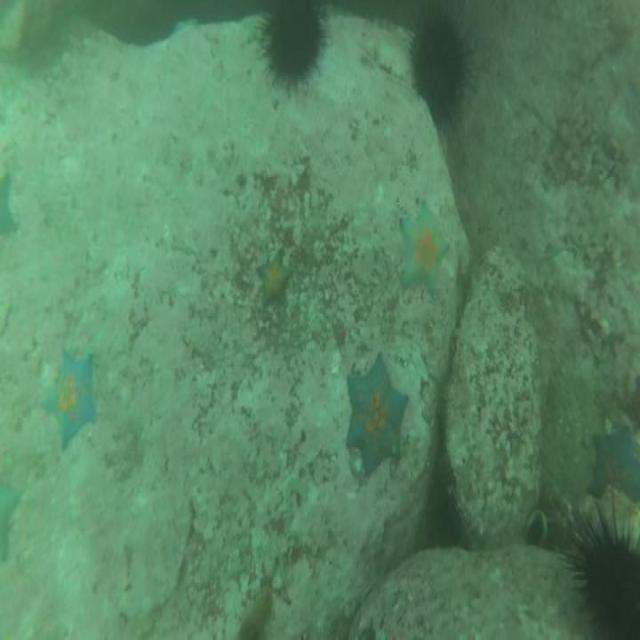echinus: (563, 505, 640, 640), (406, 5, 476, 137), (257, 0, 331, 100)
starfish: (340, 352, 410, 482), (38, 344, 102, 458), (396, 198, 452, 298), (586, 419, 640, 509), (253, 247, 294, 316), (0, 472, 21, 565), (0, 170, 20, 241)
